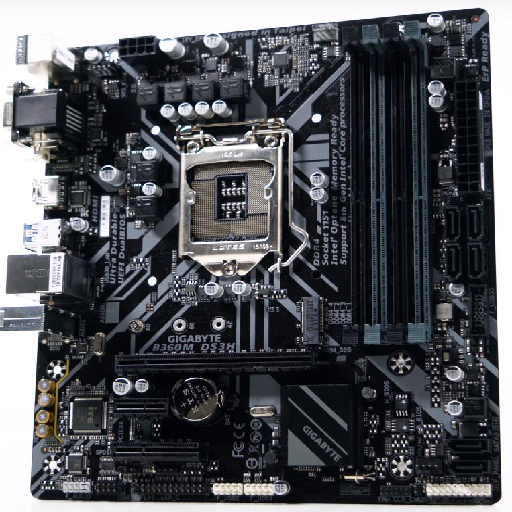CPU: (176, 143, 285, 281)
GPU: (114, 344, 344, 378)
MOTHERBOARD: (15, 28, 505, 510)
RAM: (336, 23, 434, 351)
SSD: (295, 294, 323, 351)
